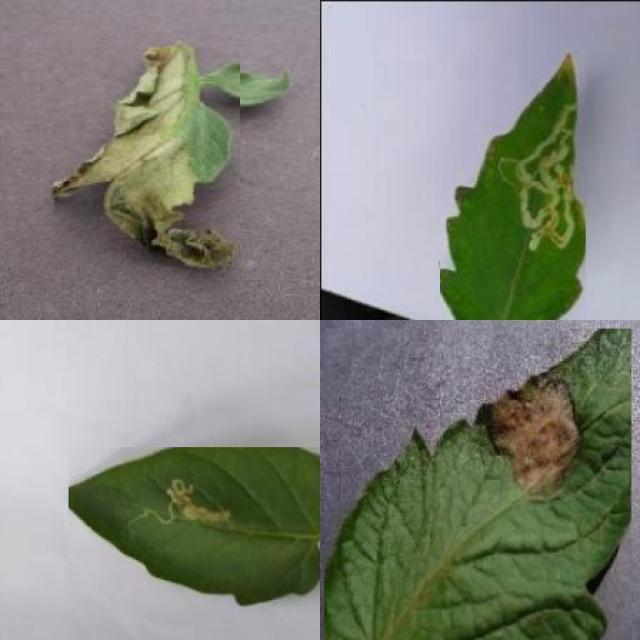Late Blight: (324, 328, 631, 640), (54, 48, 240, 271)
Leaf Miner: (69, 447, 320, 607), (440, 50, 586, 320)
